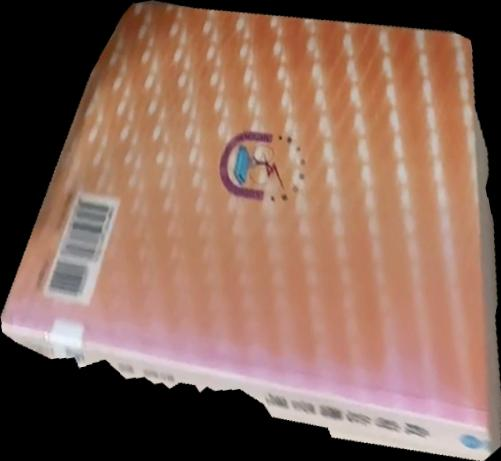flat: (1, 1, 501, 461)
